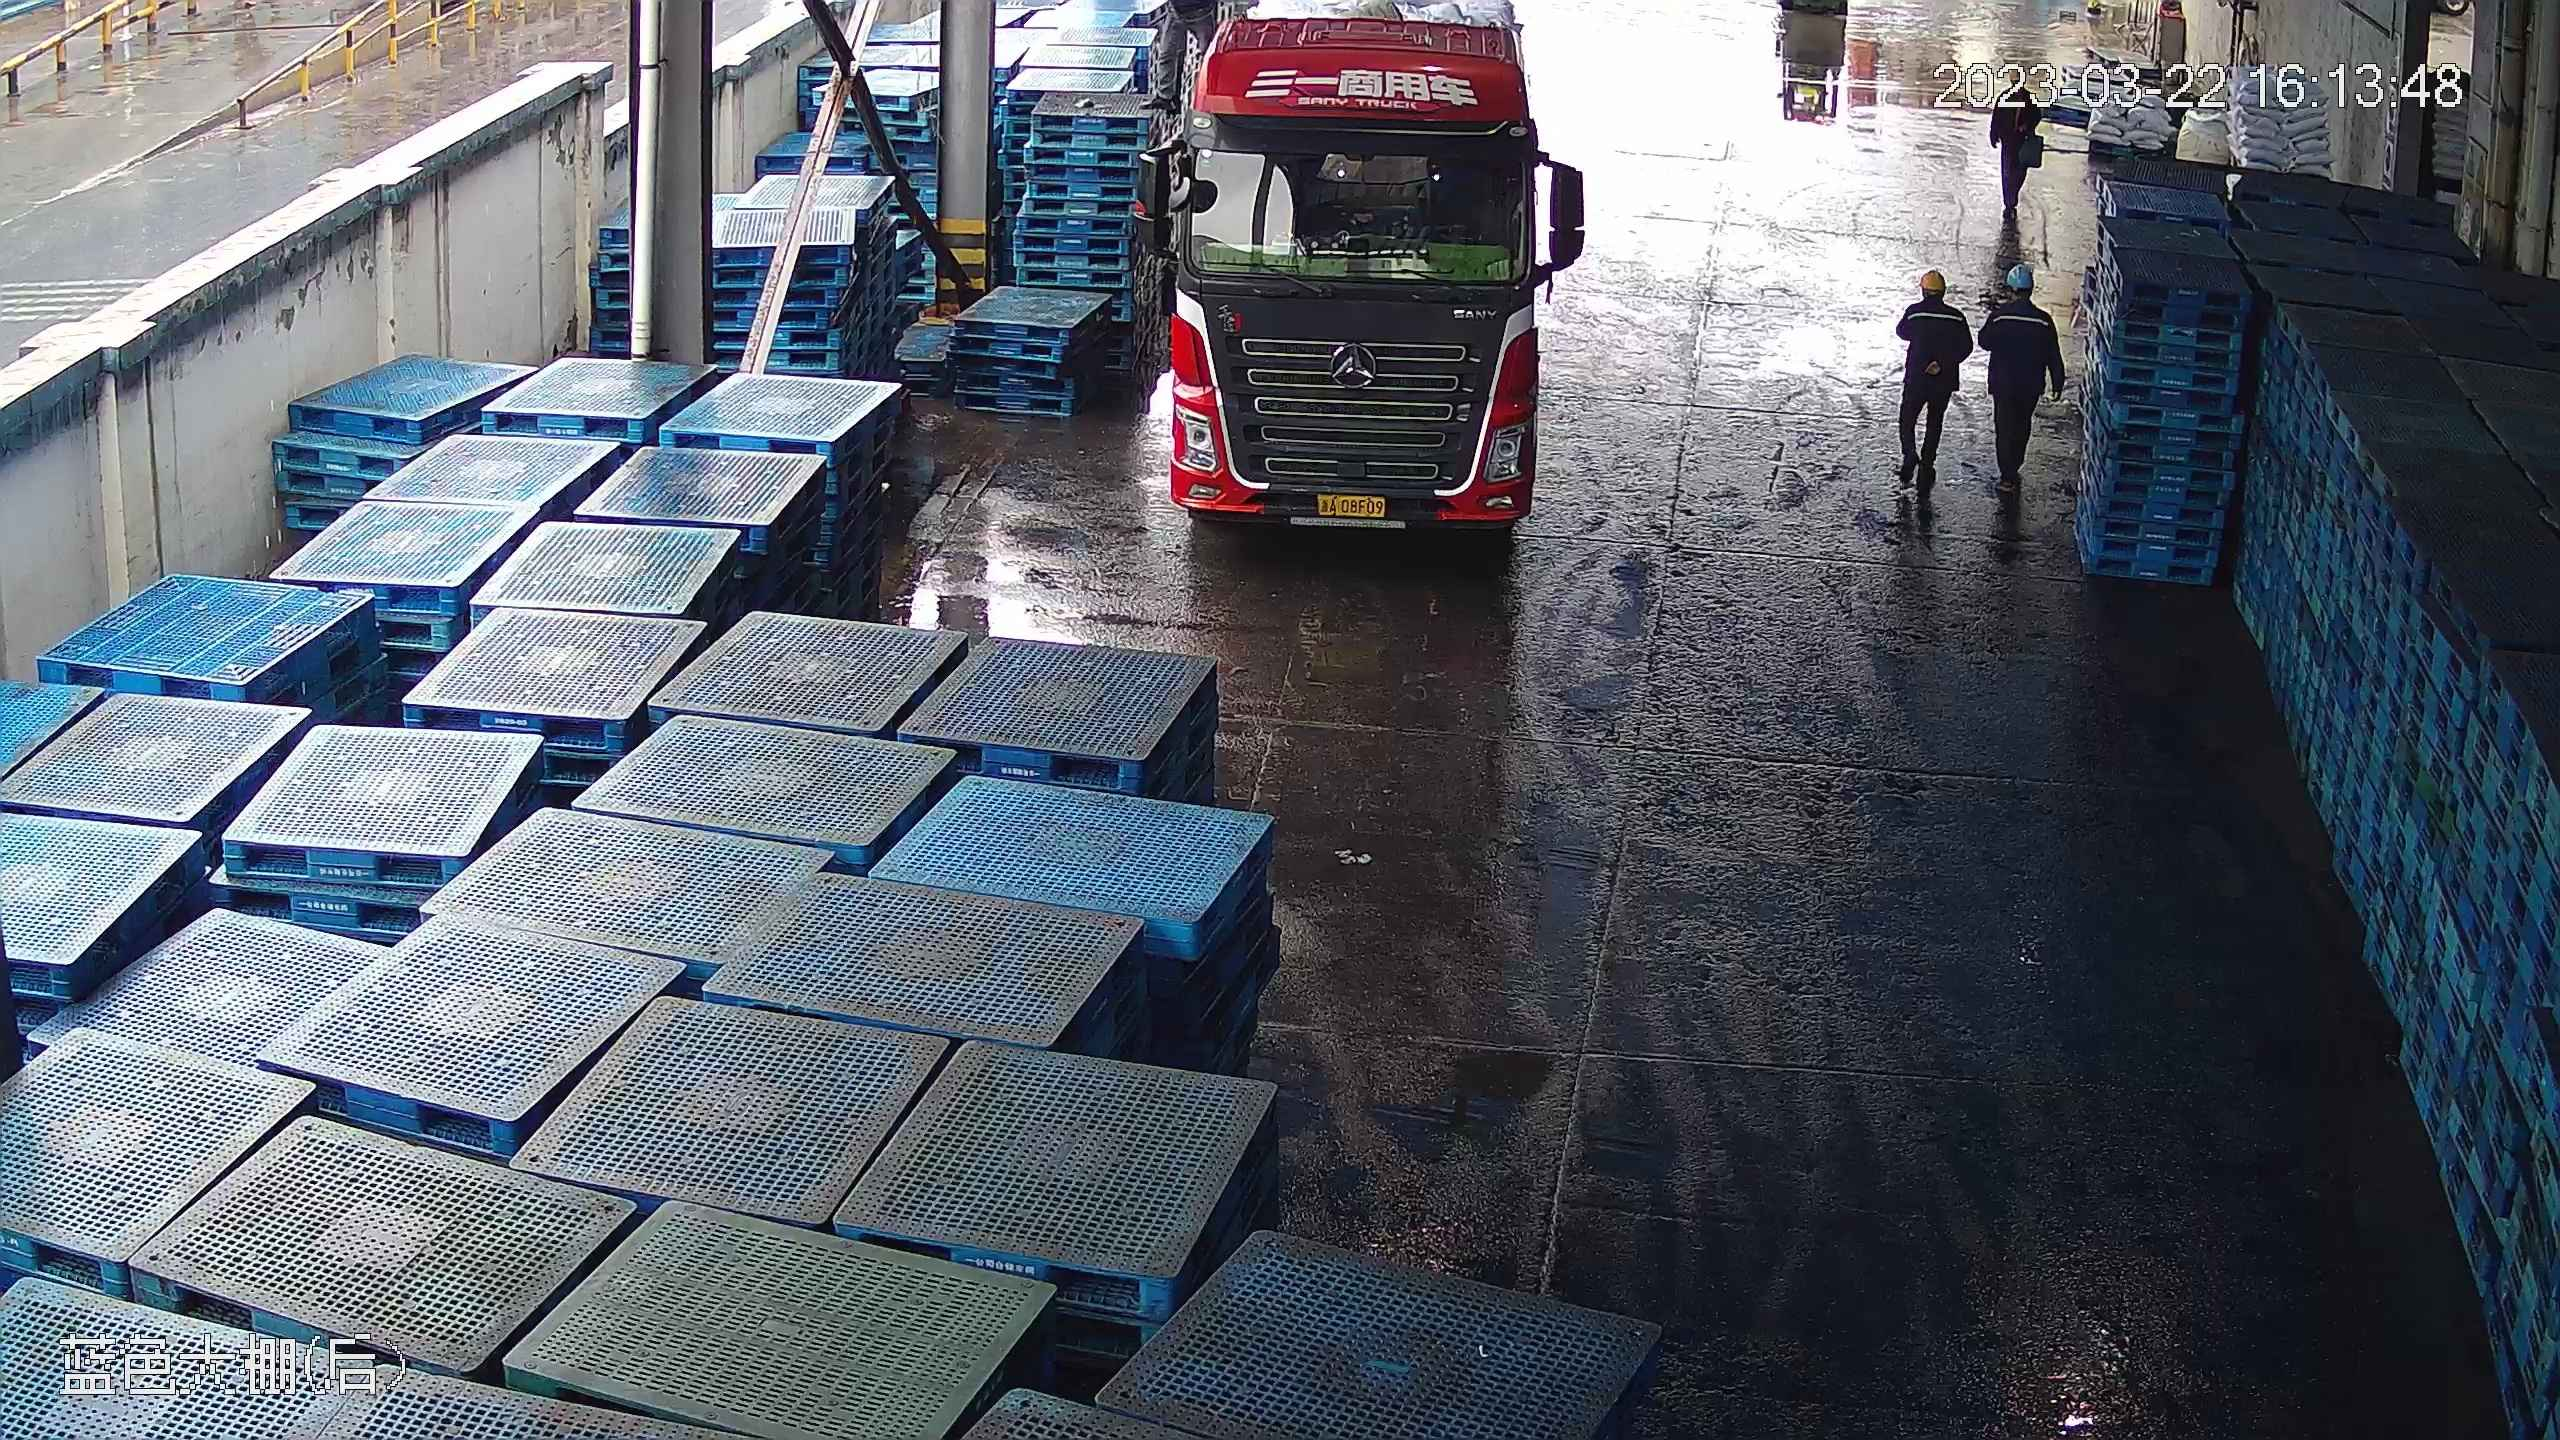head: (1981, 264, 2056, 331), (1899, 266, 1970, 334), (1992, 67, 2044, 122)
helmet: (1918, 266, 1951, 291), (2006, 262, 2035, 285), (2003, 69, 2029, 92)
people: (1975, 264, 2060, 530), (1890, 258, 1969, 513), (1989, 66, 2049, 260)
truck: (1141, 1, 1582, 532)
